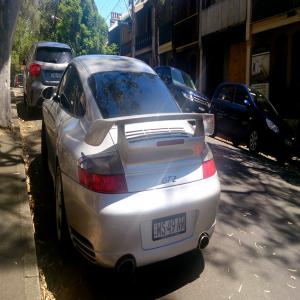Vehicle-registration-plate: (154, 214, 188, 244), (51, 73, 64, 81)
